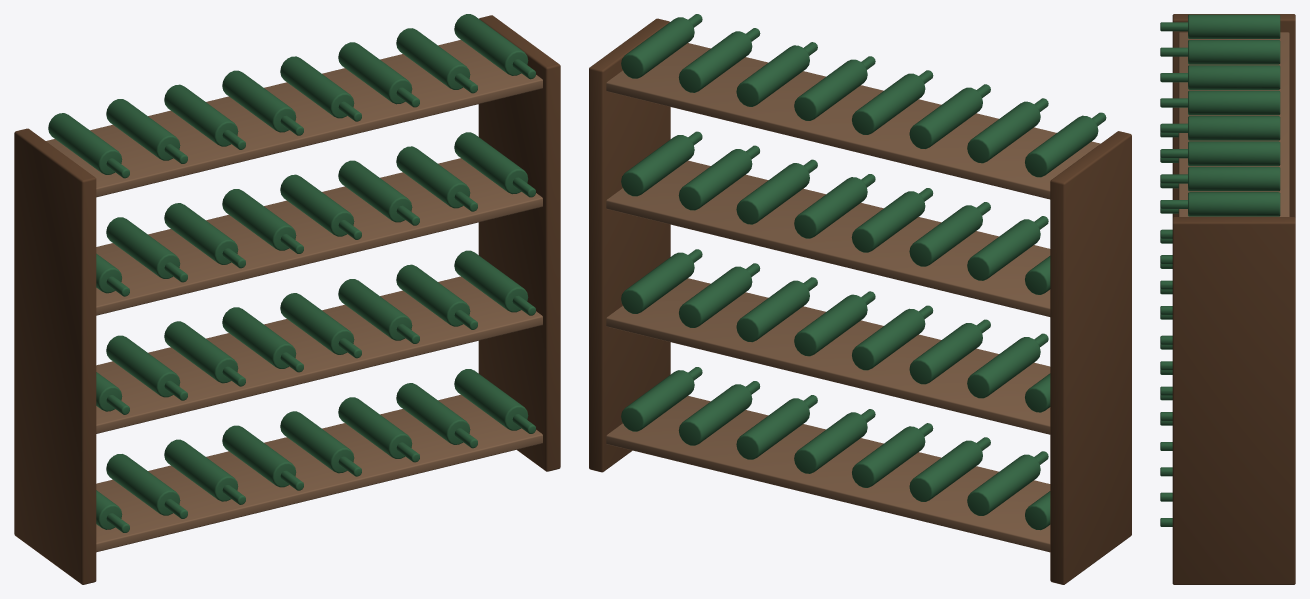
File: rack.fbx
3 views of the same model, side by side, from view 1: azimuth 30°, elevation 25°; view 2: azimuth 150°, elevation 25°; view 3: azimuth 270°, elevation 25° (orthographic). The views are drawn at different scales.
Visible parts, largest first — view 1: post, post.001, slat.003, slat, slat.001, slat.002, bottle.022, bottle.004, bottle.010, bottle.028, bottle.003, bottle.009 (+23 smaller); view 2: post, post.001, slat.003, slat.002, slat, slat.001, bottle.001, bottle.012, bottle.006, bottle.030, bottle.003, bottle.019 (+26 smaller); view 3: post.001, slat.003, post, bottle.030, bottle.027, bottle.026, bottle.028, bottle.031, bottle.024, bottle.025, bottle.029, neck.024 (+7 smaller).
Part boxes in pixels (x1,y1,x2,y2): post: [14, 128, 96, 584]; post.001: [478, 15, 560, 471]; slat.003: [46, 40, 542, 197]; slat: [96, 394, 542, 552]; slat.001: [96, 276, 542, 433]; slat.002: [96, 158, 542, 315]; bottle.022: [396, 146, 470, 208]; bottle.004: [280, 411, 354, 473]; bottle.010: [164, 321, 238, 383]; bottle.028: [280, 56, 354, 118]; bottle.003: [222, 425, 296, 487]; bottle.009: [106, 335, 180, 397]; post: [1050, 131, 1131, 584]; post.001: [589, 18, 670, 472]; slat.003: [606, 43, 1100, 199]; slat.002: [606, 160, 1050, 316]; slat: [606, 396, 1050, 552]; slat.001: [606, 278, 1050, 434]; bottle.001: [967, 454, 1040, 515]; bottle.012: [794, 294, 867, 356]; bottle.006: [678, 384, 752, 445]; bottle.030: [678, 31, 752, 92]; bottle.003: [852, 426, 925, 487]; bottle.019: [851, 191, 925, 252]; post.001: [1172, 217, 1295, 584]; slat.003: [1178, 32, 1289, 216]; post: [1172, 14, 1295, 217]; bottle.030: [1188, 166, 1280, 191]; bottle.027: [1188, 90, 1280, 115]; bottle.026: [1188, 65, 1280, 89]; bottle.028: [1188, 116, 1280, 140]; bottle.031: [1188, 192, 1280, 216]; bottle.024: [1188, 14, 1280, 38]; bottle.025: [1188, 40, 1280, 64]; bottle.029: [1188, 141, 1280, 165]; neck.024: [1160, 22, 1187, 31].
Size of what is drawn, in the model's own units: 161 by 135 by 44.
